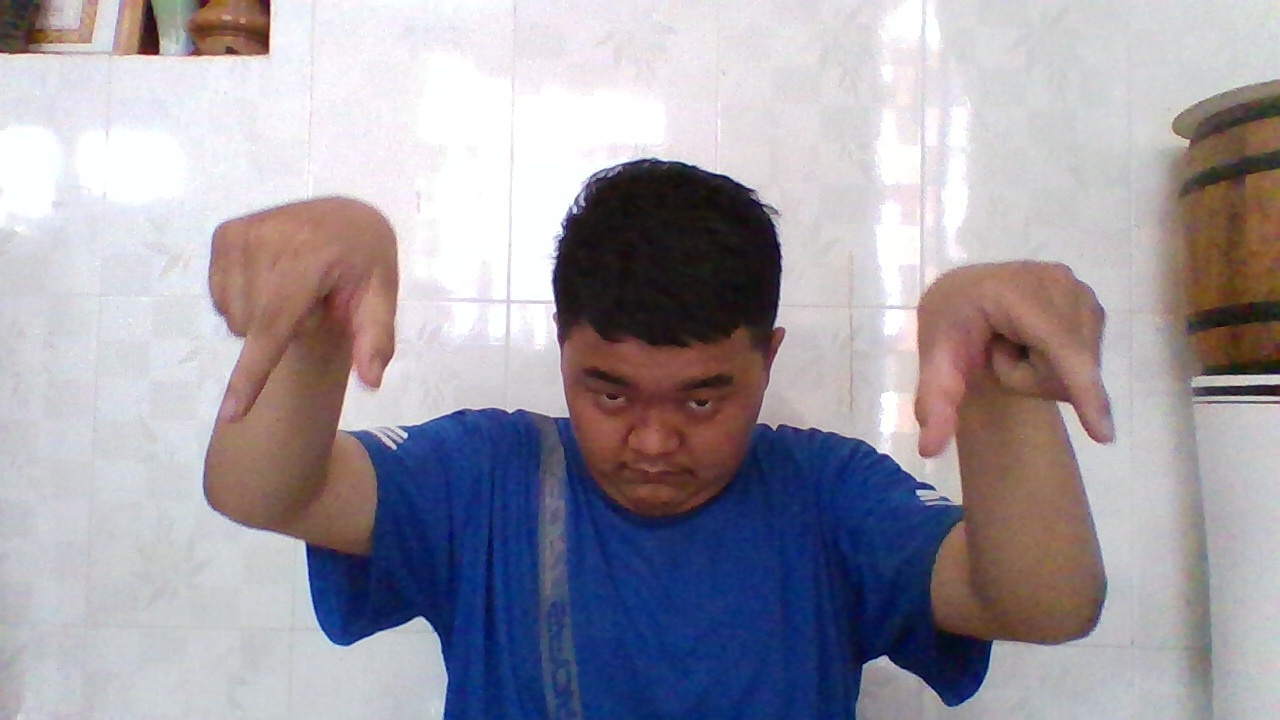Q: (202, 185, 400, 430), (910, 260, 1130, 465)
